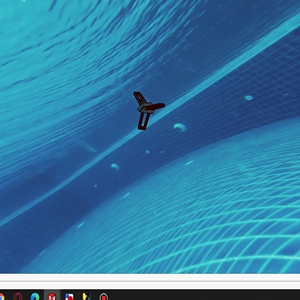submarine: (125, 94, 167, 130)
